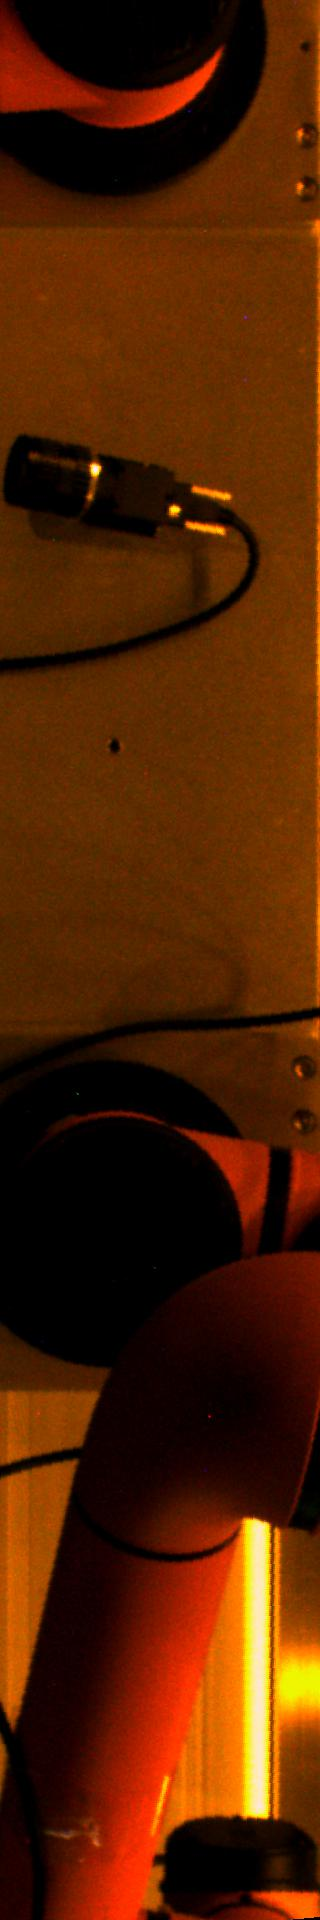keyPoint_2: (98, 733, 128, 763)
